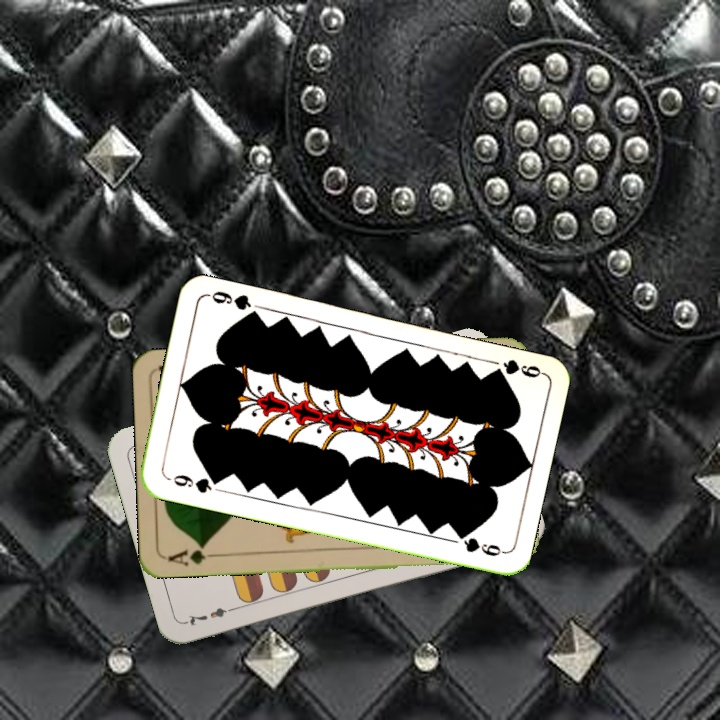E7: (182, 602, 240, 628)
G9: (163, 470, 224, 496), (489, 355, 545, 381)
GA: (164, 541, 223, 568)
